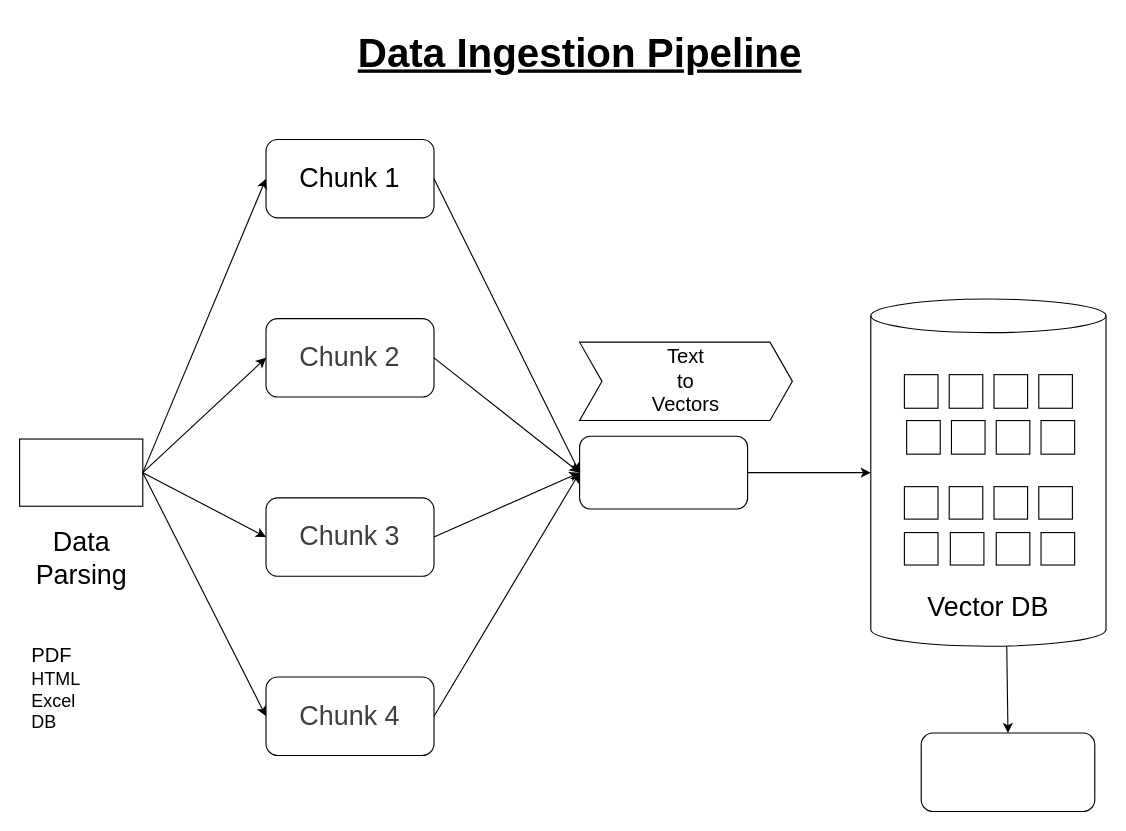
Image size: 1126x831. Some labels were removed from this diagram. The shapes that lost their labels are listed below. From the top down, each one's box as (x1, y1, x2, y2) in pixels, then its label:
(18, 438, 143, 506): Data Loading
(578, 435, 748, 509): Embedding
(920, 732, 1095, 811): Similarity Search
